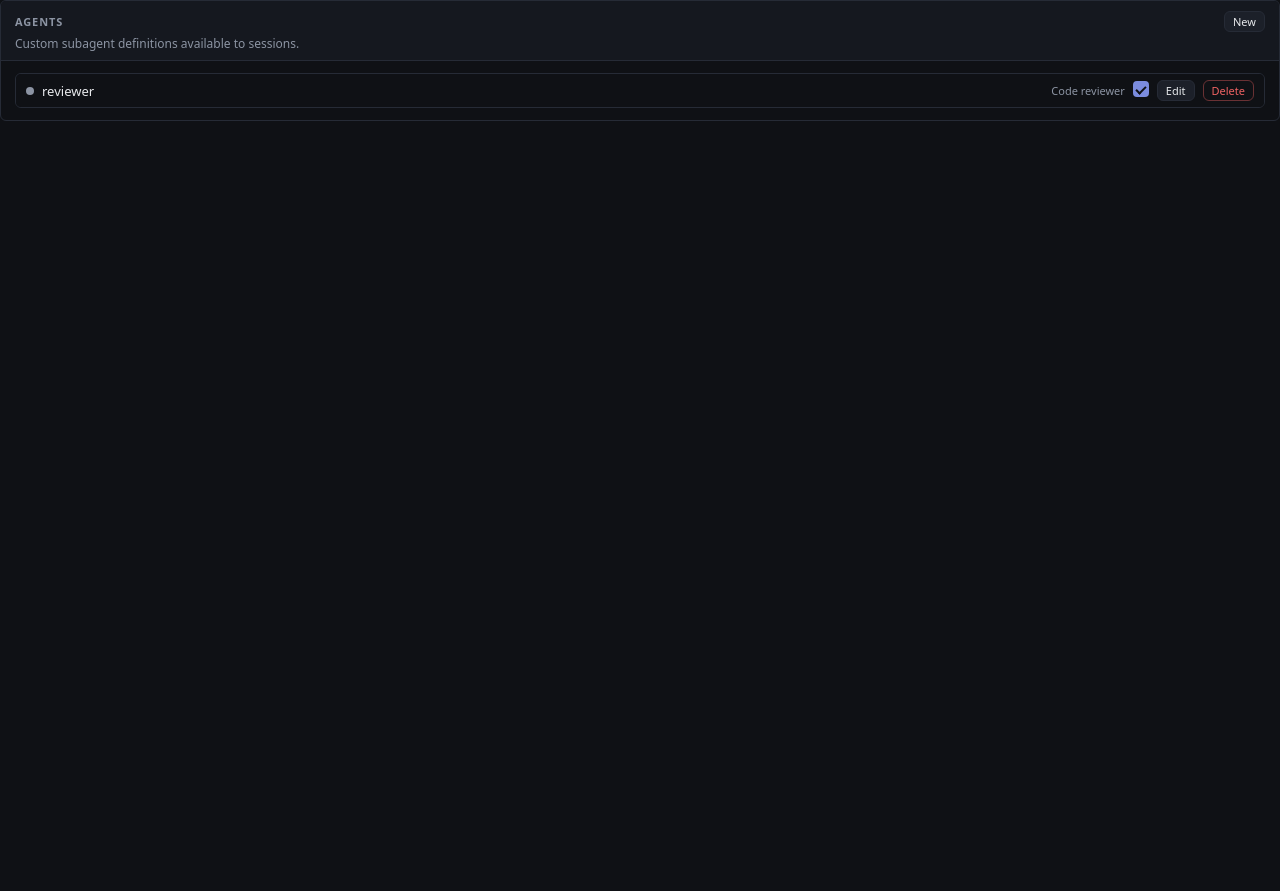
AgentDefinitionsSection › closes the form and refreshes the list on save
Click the button "New" at (1244, 22), box [1224,11,1265,32]
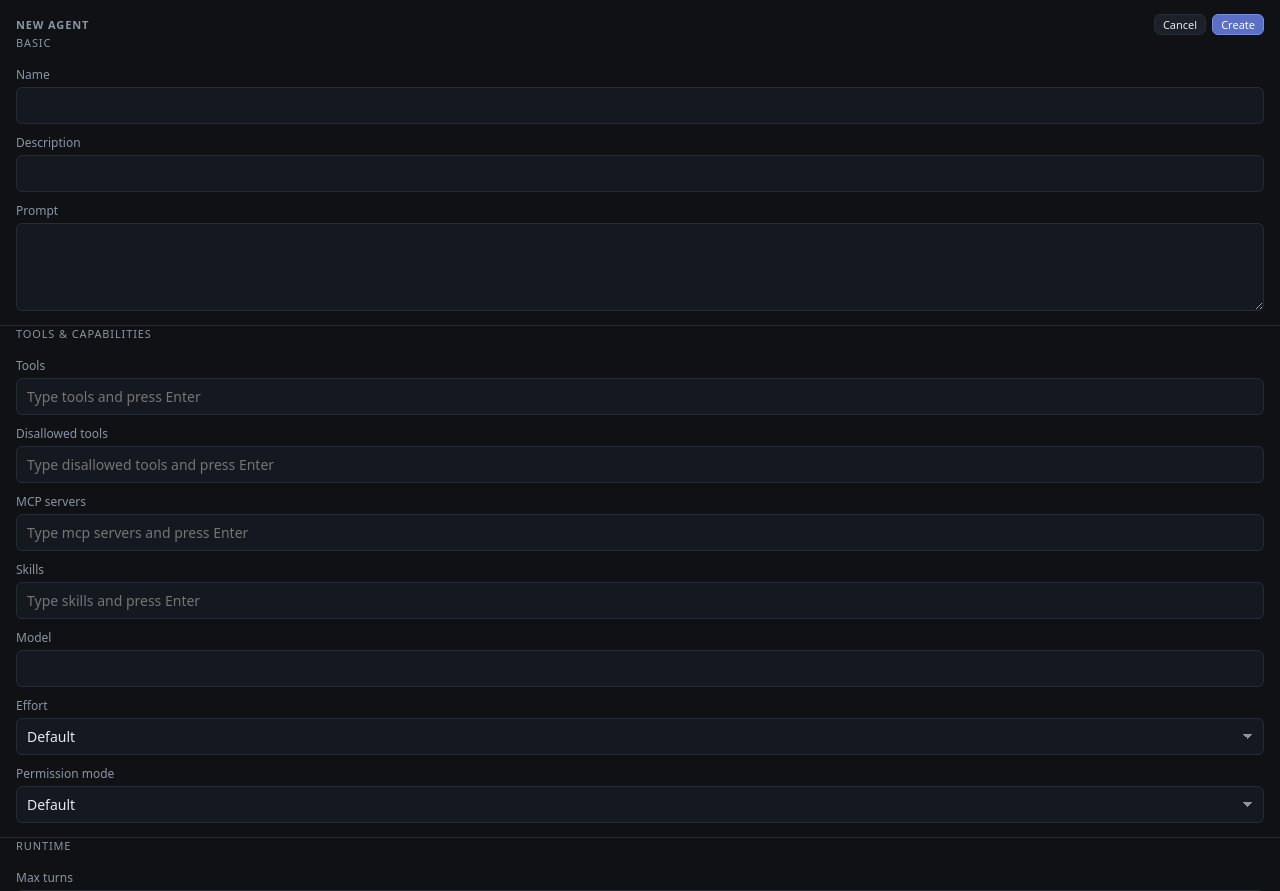
Type "writer" into the field labelled "Name" at (640, 106), box [16,87,1264,124]
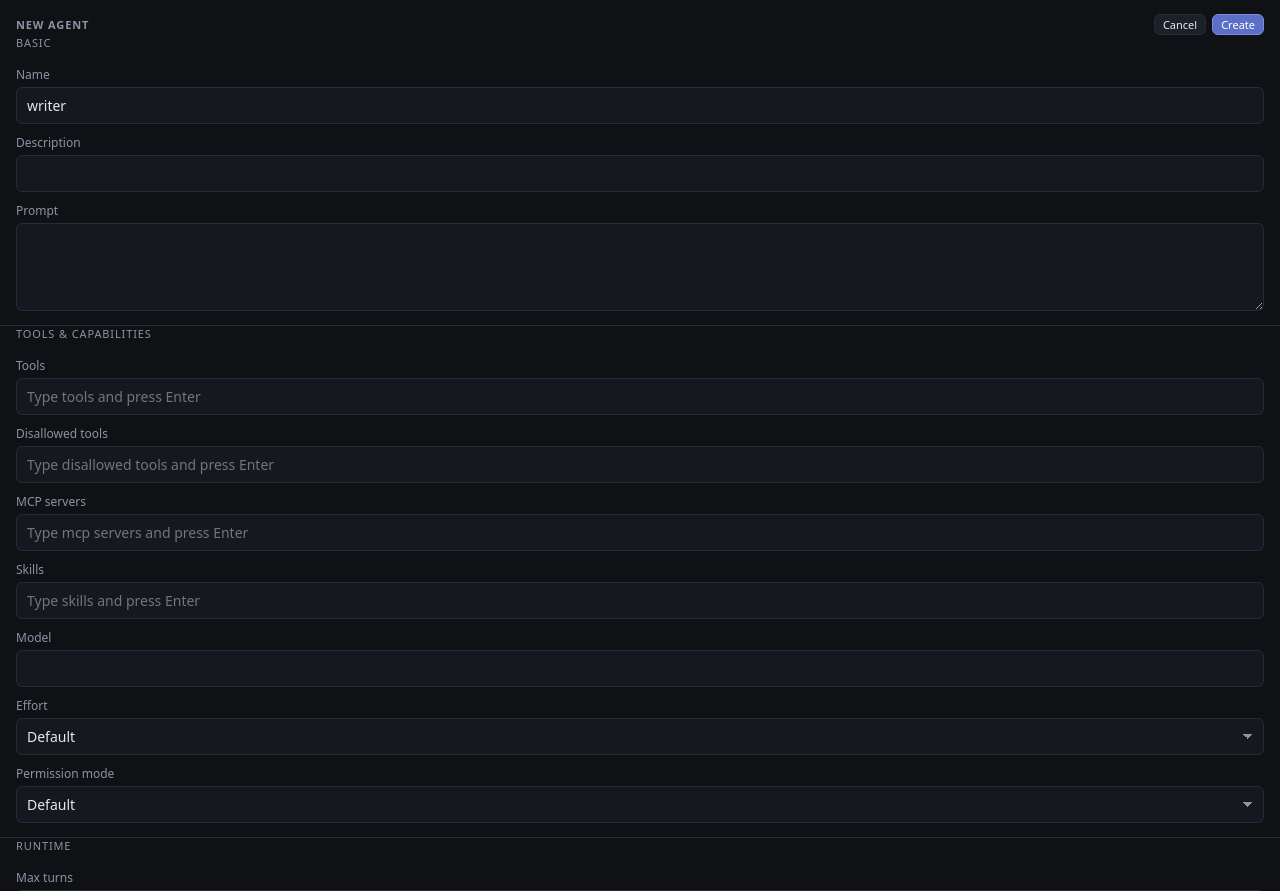
Type "Writes" into the field labelled "Description" at (640, 174), box [16,155,1264,192]
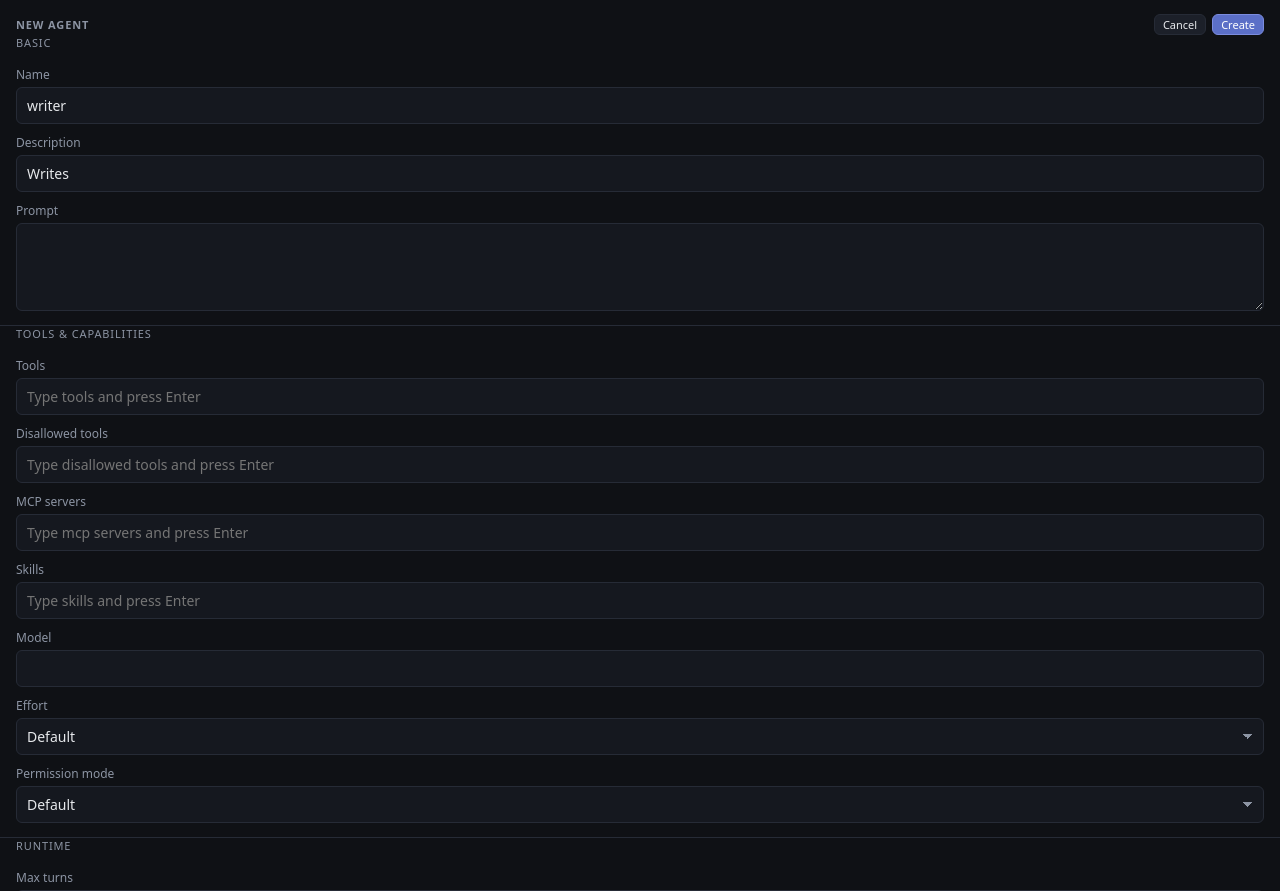
Type "You write." into the text box labelled "Prompt" at (640, 267), box [16,223,1264,311]
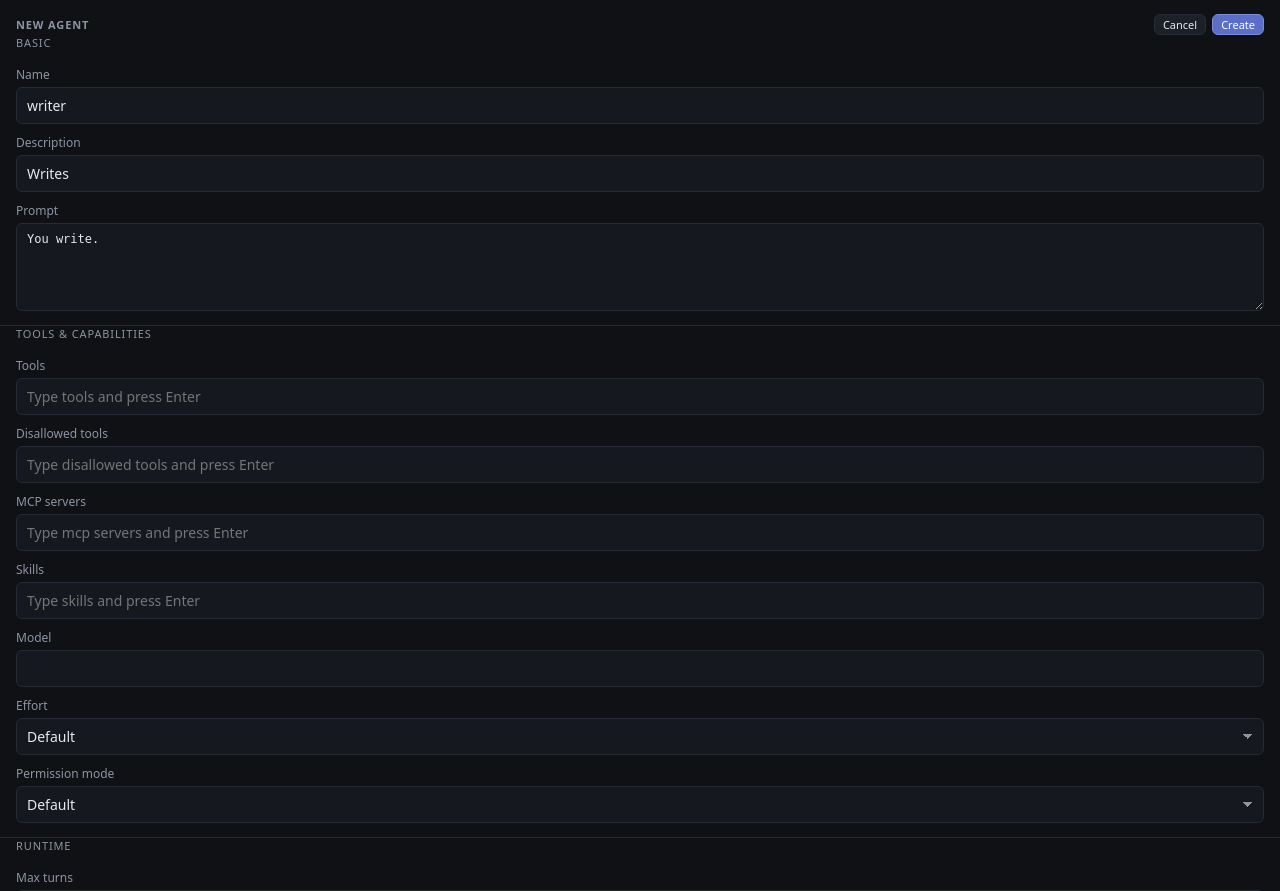
Click the button "Create" at (1238, 24), box [1212,14,1264,35]
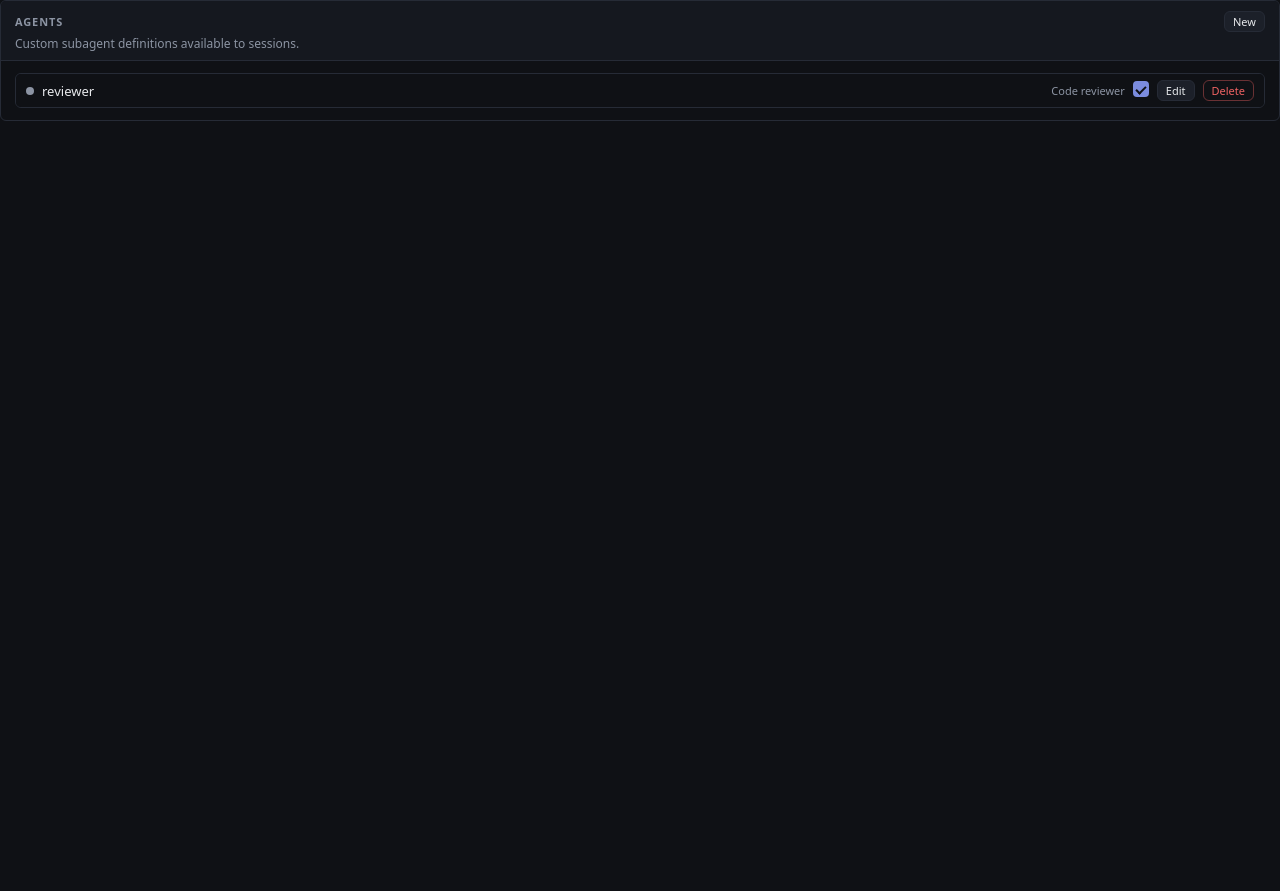
Result: the text "reviewer" is shown at [42,82,94,100]
Result: the button "Create" is gone
